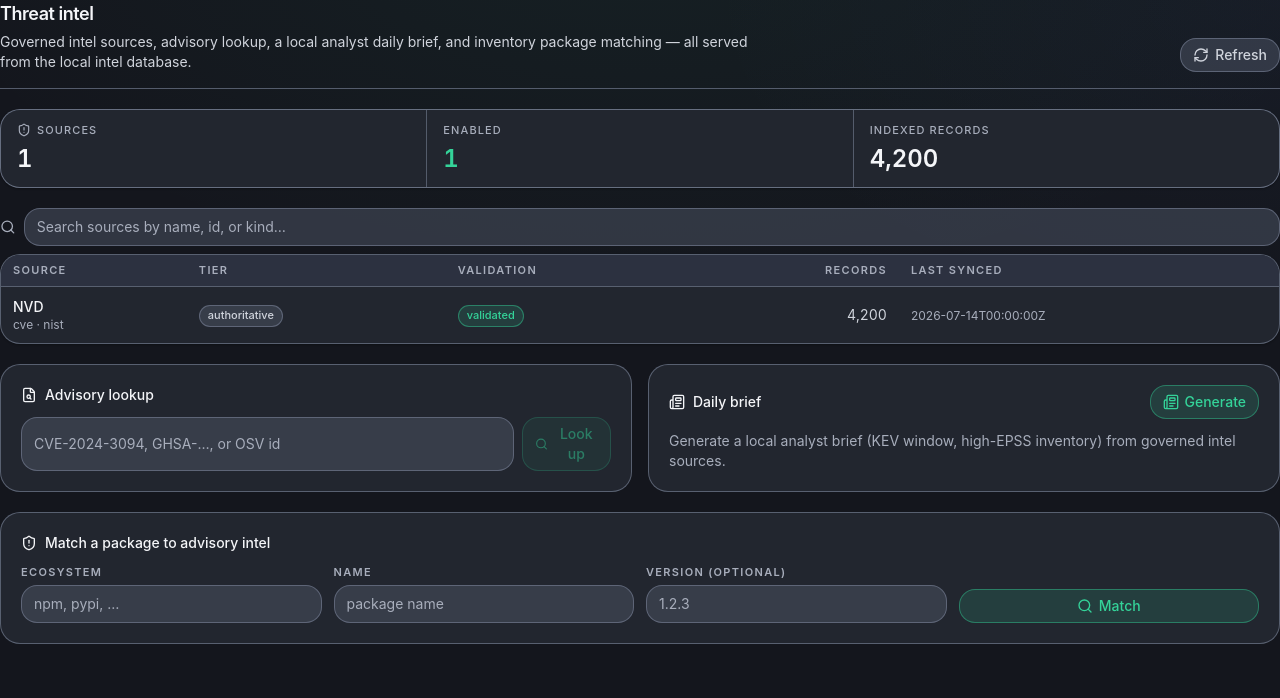
Scenario: IntelPanel › looks up an advisory by id
Check: the text "NVD" is shown, box [13,298,44,315]
Type "CVE-2024-3094" into the field with test id "intel-advisory-input". click: (268, 444)
box: [21,417,514,471]
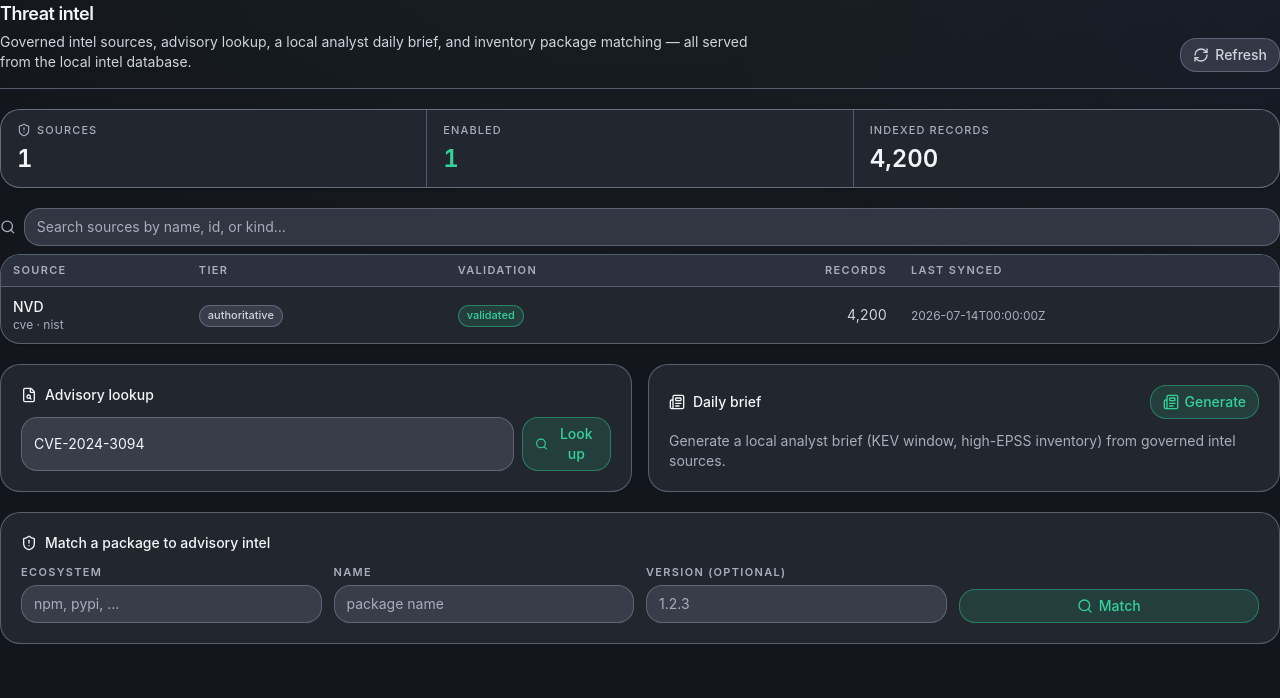
Click the button with test id "intel-advisory-submit". click: (567, 444)
box: [522,417,611,471]
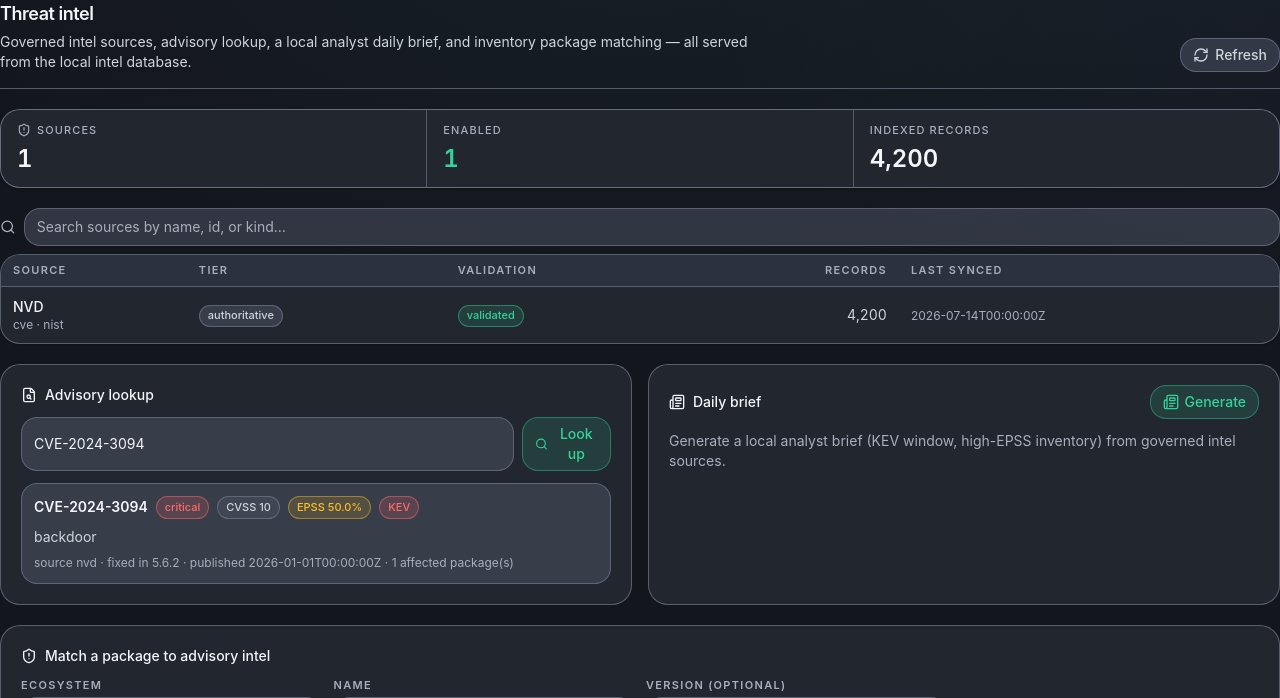
Check: the element with test id "intel-advisory-result" shows "CVE-2024-3094", box [34,498,148,516]
Check: the element with test id "intel-advisory-result" shows "KEV", box [388,500,410,514]
